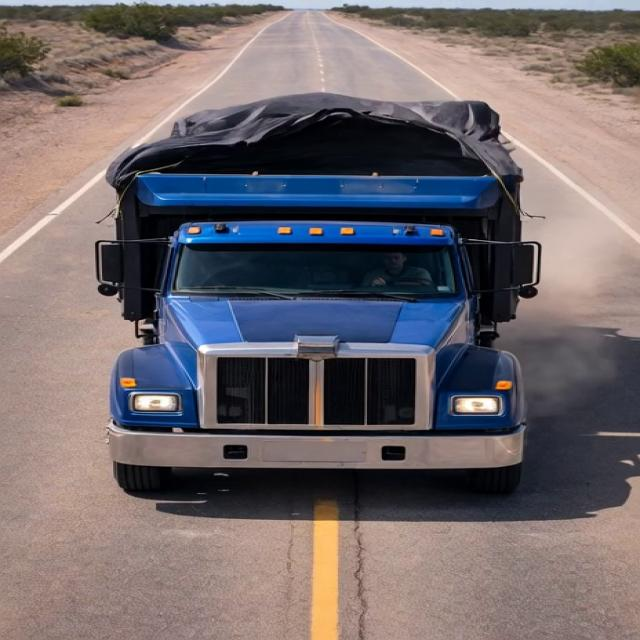Box: (111, 95, 528, 208)
Truck: (78, 72, 565, 482)
